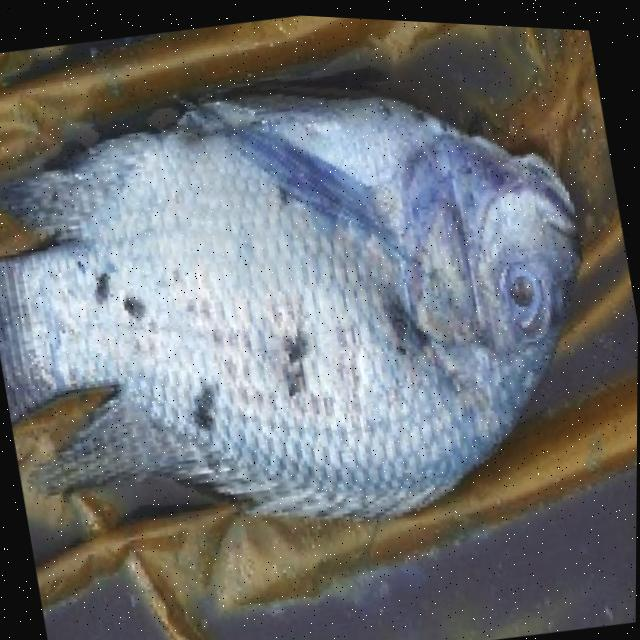Non-Fresh: (0, 52, 640, 584)
